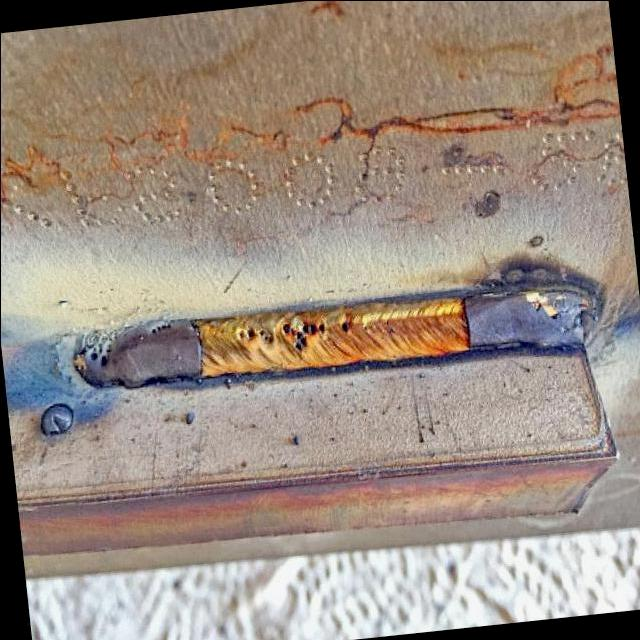defect: (279, 318, 333, 359), (88, 331, 115, 368), (236, 322, 276, 344), (142, 316, 173, 337), (335, 316, 353, 334)
